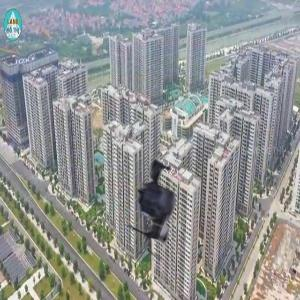drone: (105, 144, 226, 265)
